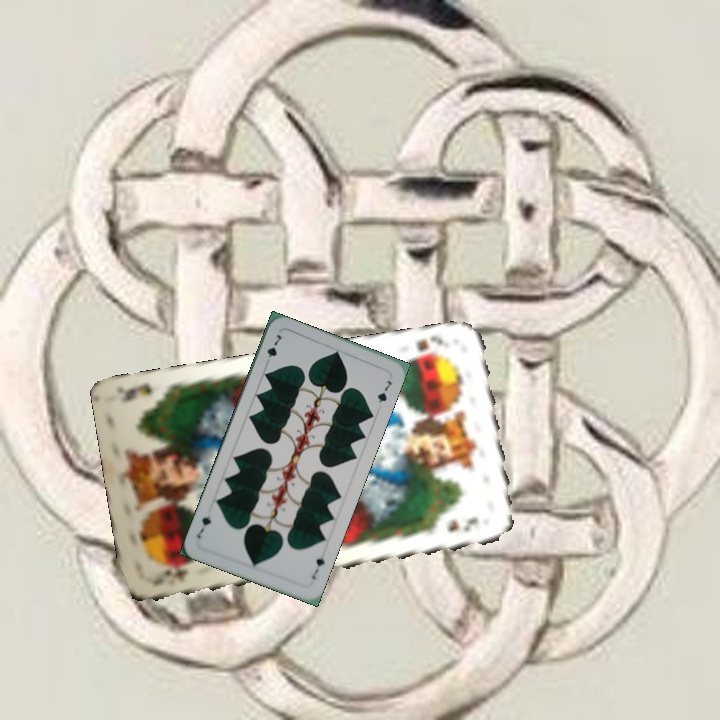G7: (262, 330, 284, 368), (308, 553, 327, 582)
SK: (404, 331, 446, 363), (156, 558, 200, 584)
